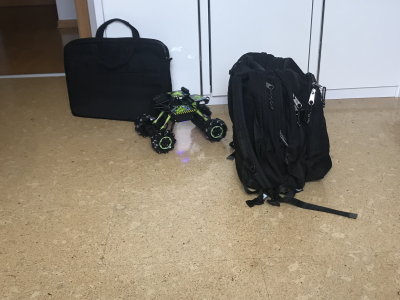remote control car: (131, 85, 229, 154)
